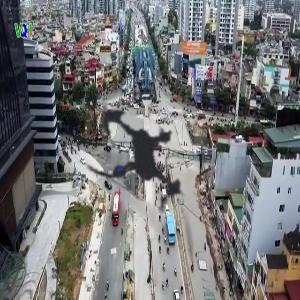drone: (31, 45, 255, 269)
